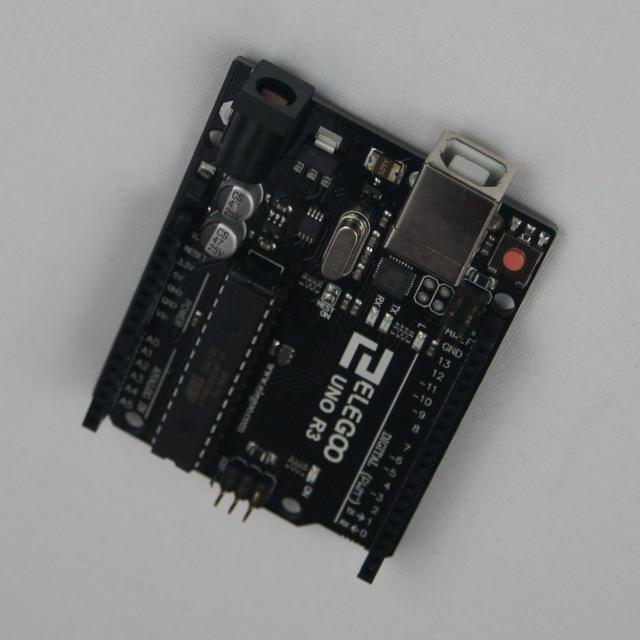Arduino Uno -Black-: (84, 58, 555, 583), (445, 259, 453, 277)
